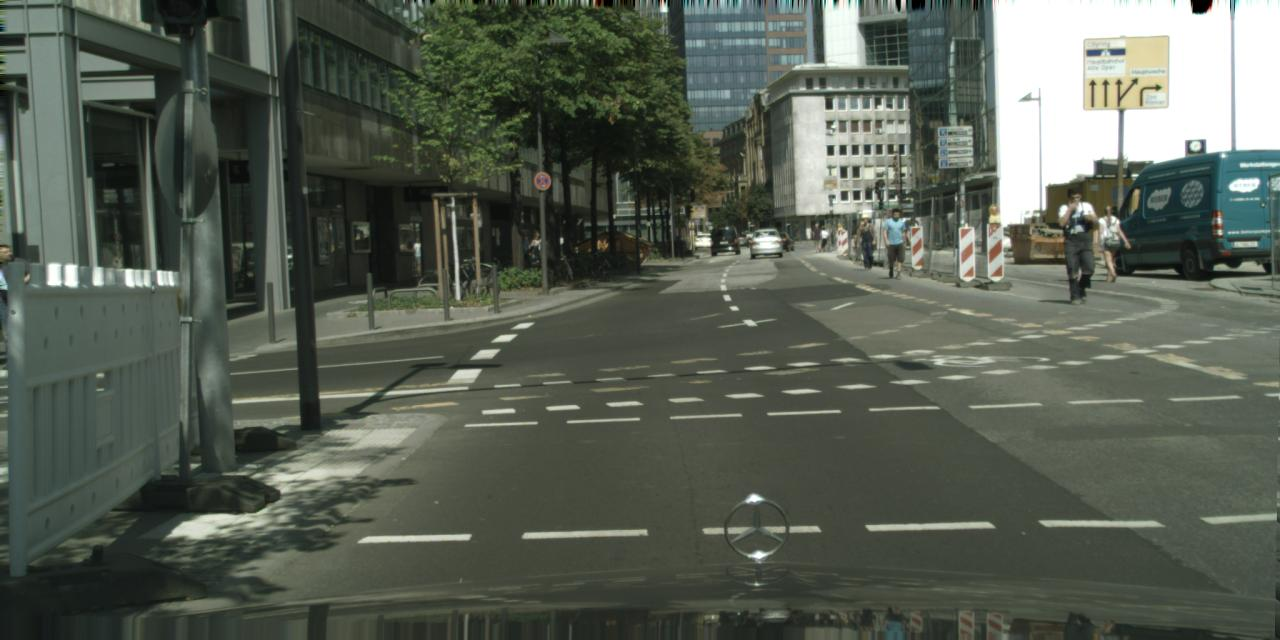ped: (1054, 188, 1101, 304), (0, 244, 33, 368), (1092, 204, 1124, 282), (880, 208, 908, 277), (856, 218, 877, 270), (811, 223, 829, 254), (530, 232, 542, 266), (520, 236, 531, 263)
